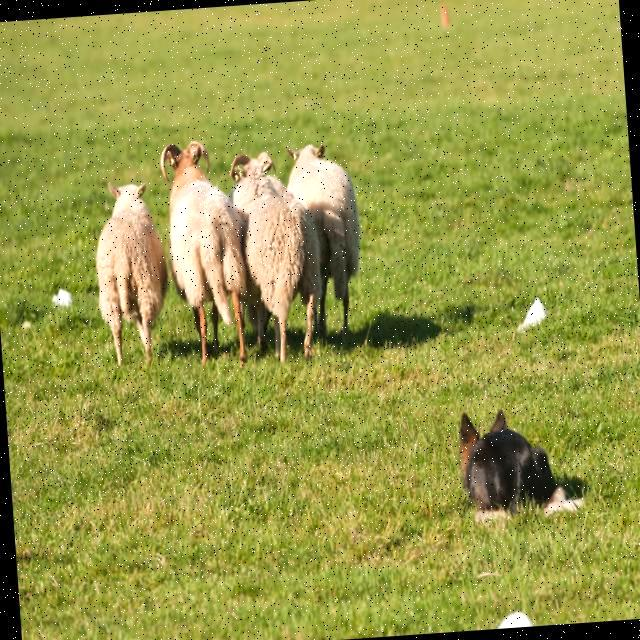sheep: (161, 141, 245, 364), (232, 151, 321, 361), (287, 145, 359, 332), (95, 181, 167, 363)
